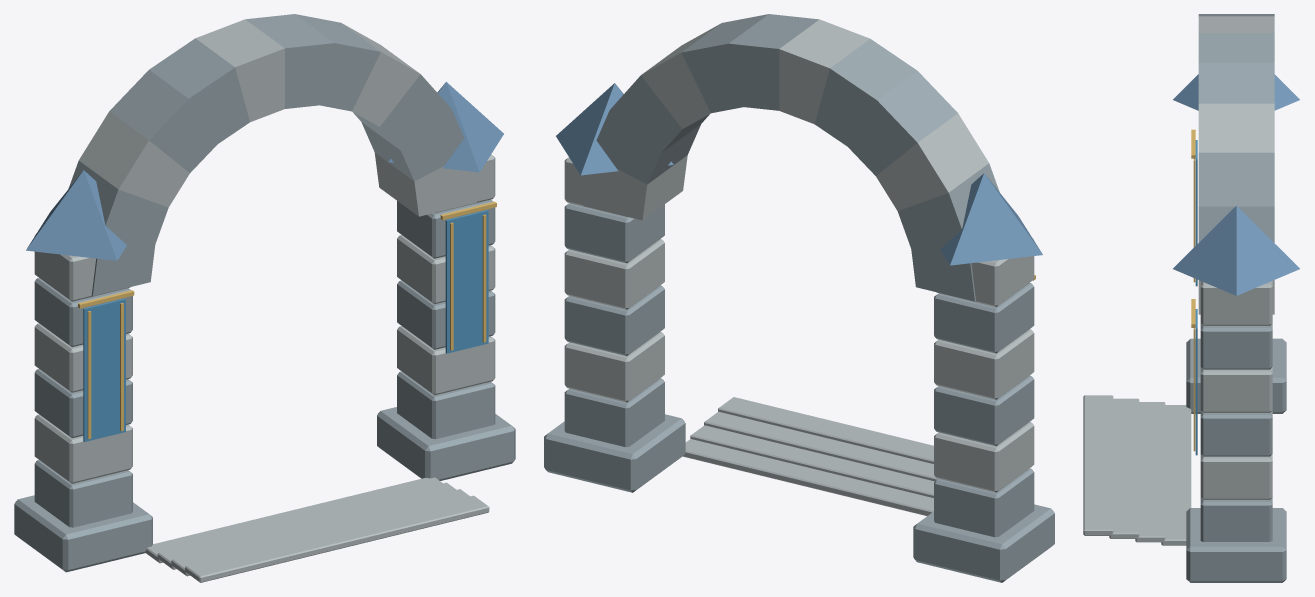
The model's file is BiomeGate.glb.
The picture shows the model from 3 angles, left to right: view 1: azimuth 30°, elevation 25°; view 2: azimuth 150°, elevation 25°; view 3: azimuth 270°, elevation 25°; orthographic projection. The views are drawn at different scales.
Visible parts, largest first — view 1: Step.003, Footing, Footing.001, ArchVoussoir.009, ArchVoussoir.008, ArchVoussoir.007, Banner.001, Banner, ArchVoussoir.006, PillarRoof, PillarBlock, PillarBlock.006 (+24 smaller); view 2: Footing, Footing.001, ArchVoussoir.009, ArchVoussoir.008, ArchVoussoir.007, ArchVoussoir.006, Step, PillarRoof, PillarBlock.002, PillarBlock.003, PillarBlock.004, PillarBlock.008 (+20 smaller); view 3: PillarRoof.001, Footing.001, Step.003, ArchVoussoir.002, ArchVoussoir.003, Step.001, Step.002, Step, ArchVoussoir.004, PillarBlock.007, PillarBlock.009, PillarBlock.008 (+11 smaller).
Part boxes in pixels (x1,y1,x2,y2): Step.003: [185, 495, 489, 582]; Footing: [14, 495, 152, 572]; Footing.001: [377, 407, 515, 480]; ArchVoussoir.009: [79, 111, 189, 207]; ArchVoussoir.008: [109, 70, 217, 172]; ArchVoussoir.007: [149, 38, 249, 143]; Banner.001: [445, 210, 488, 353]; Banner: [83, 298, 125, 441]; ArchVoussoir.006: [195, 19, 284, 122]; PillarRoof: [26, 170, 126, 260]; PillarBlock: [34, 460, 132, 527]; PillarBlock.006: [397, 371, 495, 438]; Footing: [913, 504, 1054, 582]; Footing.001: [544, 414, 685, 492]; ArchVoussoir.009: [876, 113, 988, 210]; ArchVoussoir.008: [847, 71, 957, 175]; ArchVoussoir.007: [814, 39, 917, 146]; ArchVoussoir.006: [779, 19, 869, 124]; Step: [682, 439, 933, 515]; PillarRoof: [940, 173, 1042, 265]; PillarBlock.002: [934, 375, 1034, 446]; PillarBlock.003: [934, 329, 1034, 399]; PillarBlock.004: [934, 283, 1034, 353]; PillarBlock.008: [564, 285, 664, 356]; PillarRoof.001: [1173, 206, 1299, 295]; Footing.001: [1186, 508, 1286, 582]; Step.003: [1083, 395, 1113, 535]; ArchVoussoir.002: [1198, 152, 1274, 206]; ArchVoussoir.003: [1198, 103, 1274, 152]; Step.001: [1135, 402, 1165, 542]; Step.002: [1109, 398, 1139, 538]; Step: [1161, 405, 1191, 545]; ArchVoussoir.004: [1198, 62, 1274, 103]; PillarBlock.007: [1200, 454, 1272, 499]; PillarBlock.009: [1200, 367, 1272, 412]; PillarBlock.008: [1200, 411, 1272, 456].
Size of the model in its own units: 26.4 by 24.6 by 10.85.
